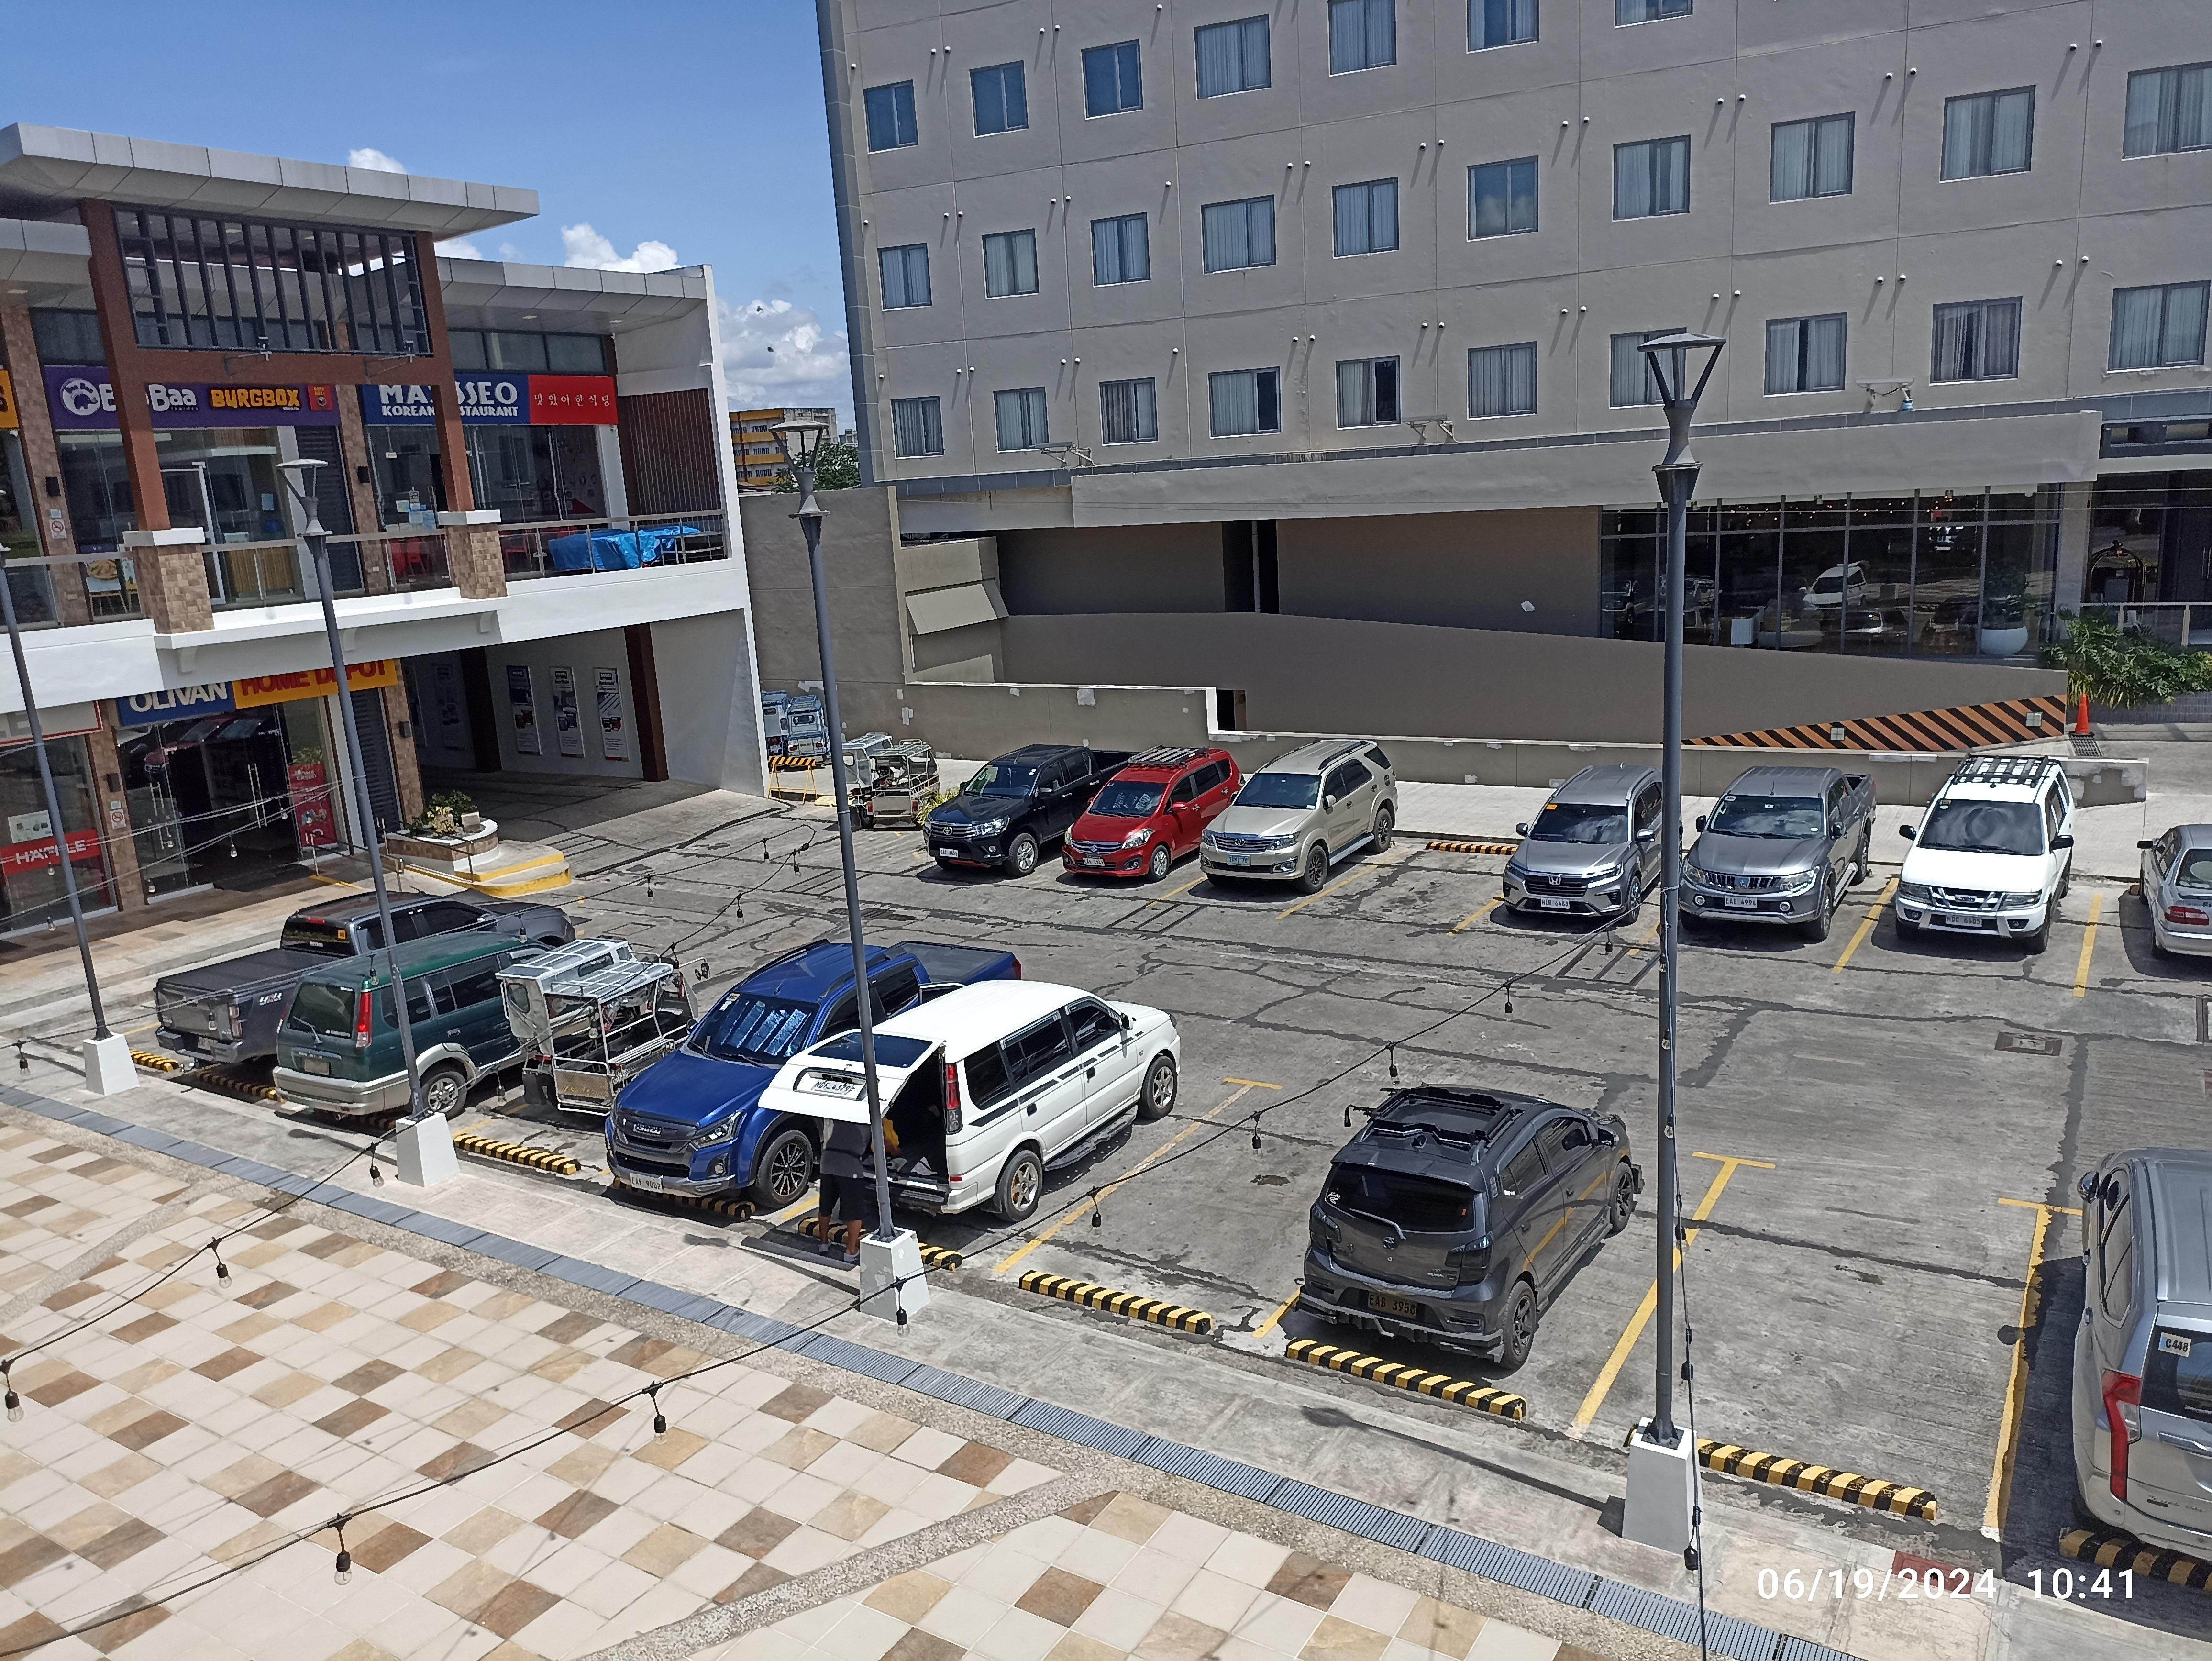occupied: (1240, 1106, 1744, 1436), (1830, 876, 2106, 998)
vacant: (1565, 1155, 2053, 1535), (984, 1078, 1478, 1350), (1272, 839, 1568, 935)
